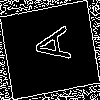A: (24, 24, 71, 66)
